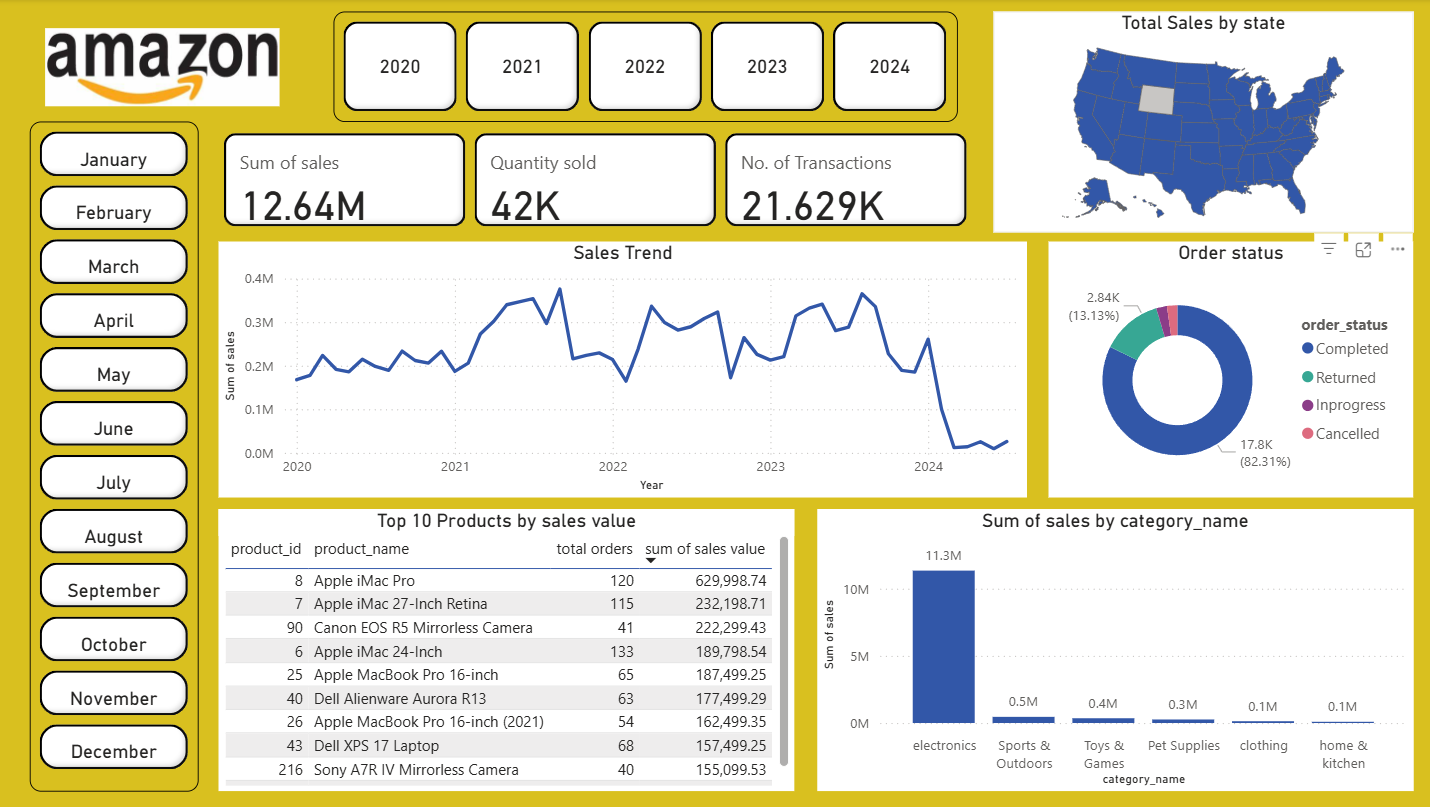

The dashboard page shown, as its layout file describes it:
{"tool":"powerbi","page":{"name":"Page 1","canvas":[1280,720],"ordinal":0},"visuals":[{"type":"cardVisual","fields":{"Data":["Sum(order_items.sales)","Sum(order_items.quantity)","Count(order_items.order_id)"]},"box":[198.1,114.7,673.5,93.5],"z":0},{"type":"advancedSlicerVisual","fields":{"Values":["orders.Year"]},"box":[301,11.2,556,98.3],"z":1000},{"type":"shape","box":[249.1,546,244.2,98.2],"z":2000},{"type":"image","box":[18.9,21.2,258.3,79],"z":3000},{"type":"advancedSlicerVisual","fields":{"Values":["orders.order_date.Variation.Date Hierarchy.Month"]},"box":[29.9,109.5,150.5,597.1],"z":4000},{"type":"lineChart","title":"Sales Trend","fields":{"Y":["Sum(order_items.sales)"],"Category":["orders.order_date.Variation.Date Hierarchy.Year","orders.order_date.Variation.Date Hierarchy.Month"]},"box":[198.1,216,720.2,228.2],"z":5000},{"type":"tableEx","title":"Top 10 Products by sales value","fields":{"Values":["products.product_id","products.product_name","orders.order_id","Sum(order_items.sales)"]},"box":[198.1,454.2,513.2,251.6],"z":6000},{"type":"columnChart","fields":{"Category":["category.category_name"],"Y":["Sum(order_items.sales)"]},"box":[731.4,454.2,531,251.6],"z":7000},{"type":"donutChart","title":"Order status","fields":{"Category":["orders.order_status"],"Y":["CountNonNull(orders.order_id)"]},"box":[937.3,216,325,228.2],"z":8000},{"type":"shapeMap","title":"Total Sales by state","fields":{"Category":["customers.state"]},"box":[888.3,11.1,374,197],"z":8001}]}

Visuals, with their boxes in screenshot pixels (x1, y1, x2, y2), scaled from the page's 1280x720 canvas onto the 1430x807 screenshot:
cardVisual - Sum(order_items.sales) x Sum(order_items.quantity): {"left": 221, "top": 129, "right": 974, "bottom": 233}
advancedSlicerVisual - orders.Year: {"left": 336, "top": 13, "right": 957, "bottom": 123}
shape: {"left": 278, "top": 612, "right": 551, "bottom": 722}
image: {"left": 21, "top": 24, "right": 310, "bottom": 112}
advancedSlicerVisual - orders.order_date.Variation.Date Hierarchy.Month: {"left": 33, "top": 123, "right": 202, "bottom": 792}
"Sales Trend" lineChart: {"left": 221, "top": 242, "right": 1026, "bottom": 498}
"Top 10 Products by sales value" tableEx: {"left": 221, "top": 509, "right": 795, "bottom": 791}
columnChart - category.category_name x Sum(order_items.sales): {"left": 817, "top": 509, "right": 1410, "bottom": 791}
"Order status" donutChart: {"left": 1047, "top": 242, "right": 1410, "bottom": 498}
"Total Sales by state" shapeMap: {"left": 992, "top": 12, "right": 1410, "bottom": 233}
